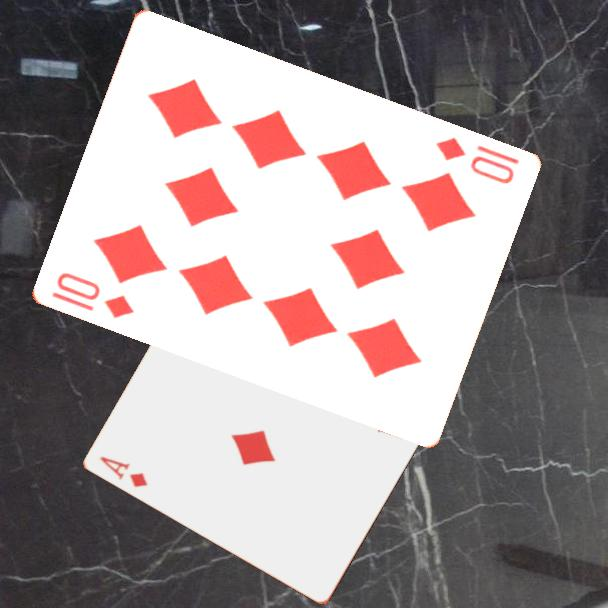d01: (97, 453, 151, 490)
d10: (431, 133, 522, 188), (52, 269, 137, 322)
